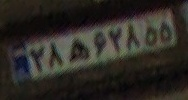character: (65, 35, 92, 65), (26, 44, 47, 75), (106, 26, 125, 57), (47, 40, 66, 70), (124, 22, 142, 53), (91, 31, 108, 61), (143, 20, 159, 49), (158, 17, 174, 44)
